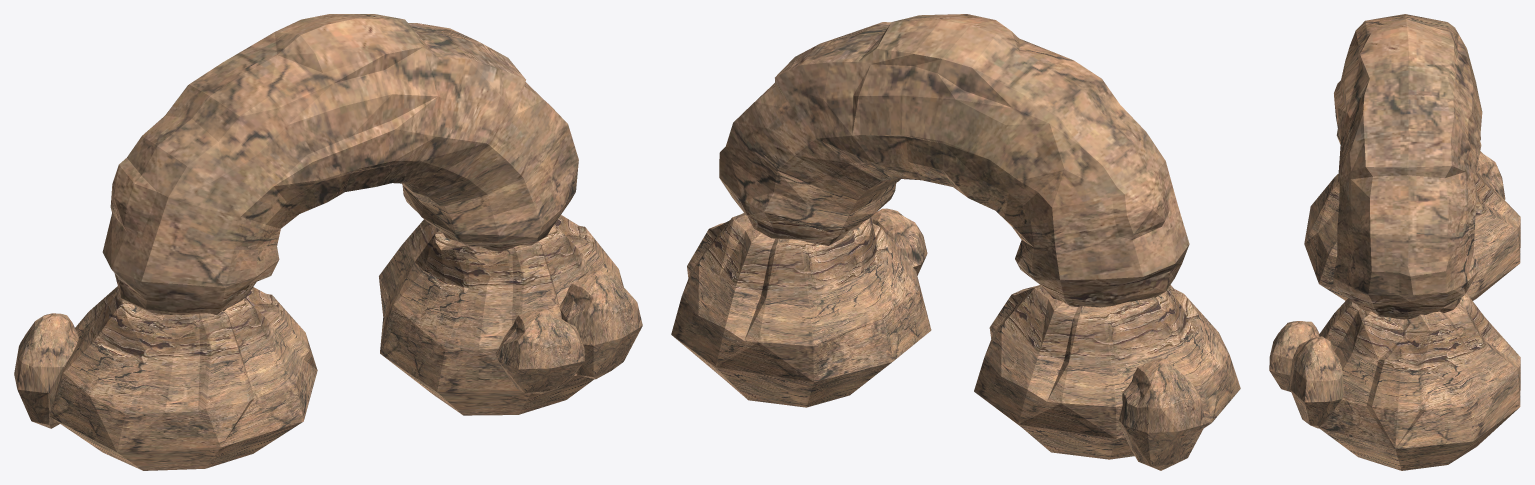
File: rock_tatt_arch_lrg_l0.fbx
3 views of the same model, side by side, from view 1: azimuth 30°, elevation 25°; view 2: azimuth 150°, elevation 25°; view 3: azimuth 270°, elevation 25° (orthographic). The views are drawn at different scales.
Visible parts, largest first — view 1: mesh_node; view 2: mesh_node; view 3: mesh_node.
Boxes of the visible parts, left/top/right/bottom form: mesh_node: left=14, top=14, right=642, bottom=470; mesh_node: left=671, top=14, right=1240, bottom=470; mesh_node: left=1269, top=14, right=1520, bottom=470.
Bounding box in the file's own units: 84.94 × 60.65 × 38.11.
